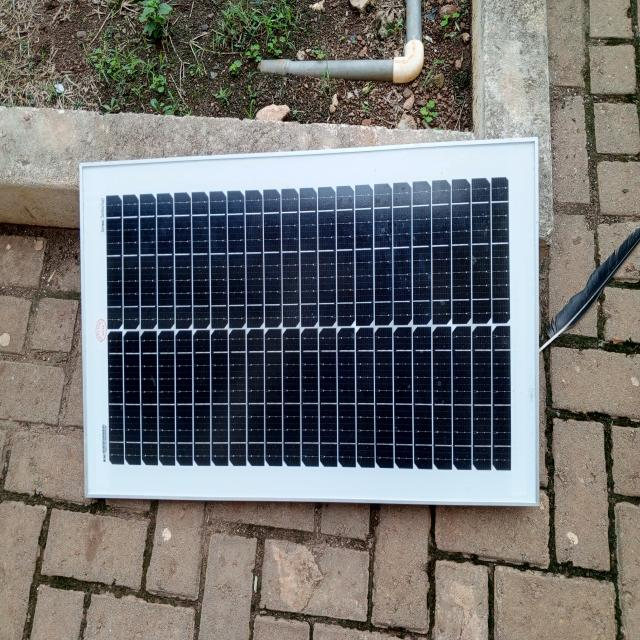Clean: (89, 176, 523, 477)
